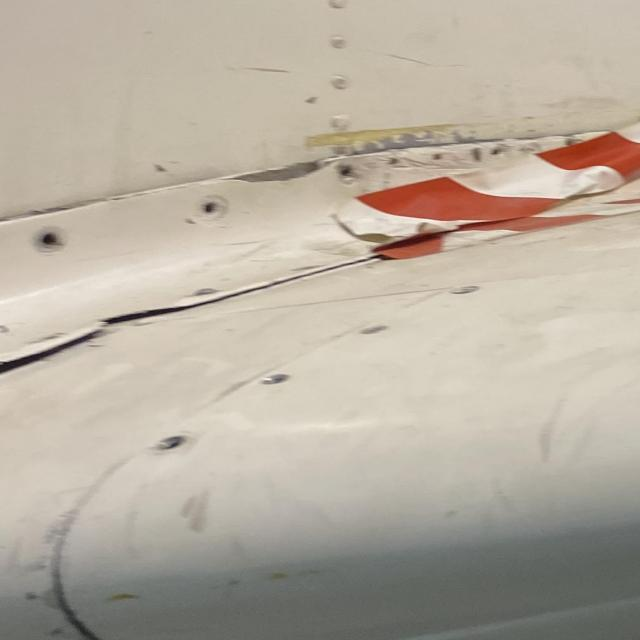Crack: (92, 293, 234, 326), (232, 160, 319, 182)
Missing-head: (192, 194, 225, 220), (29, 228, 62, 252), (151, 434, 183, 452), (259, 373, 289, 385)
